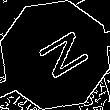N_SW: (23, 25, 87, 85)
